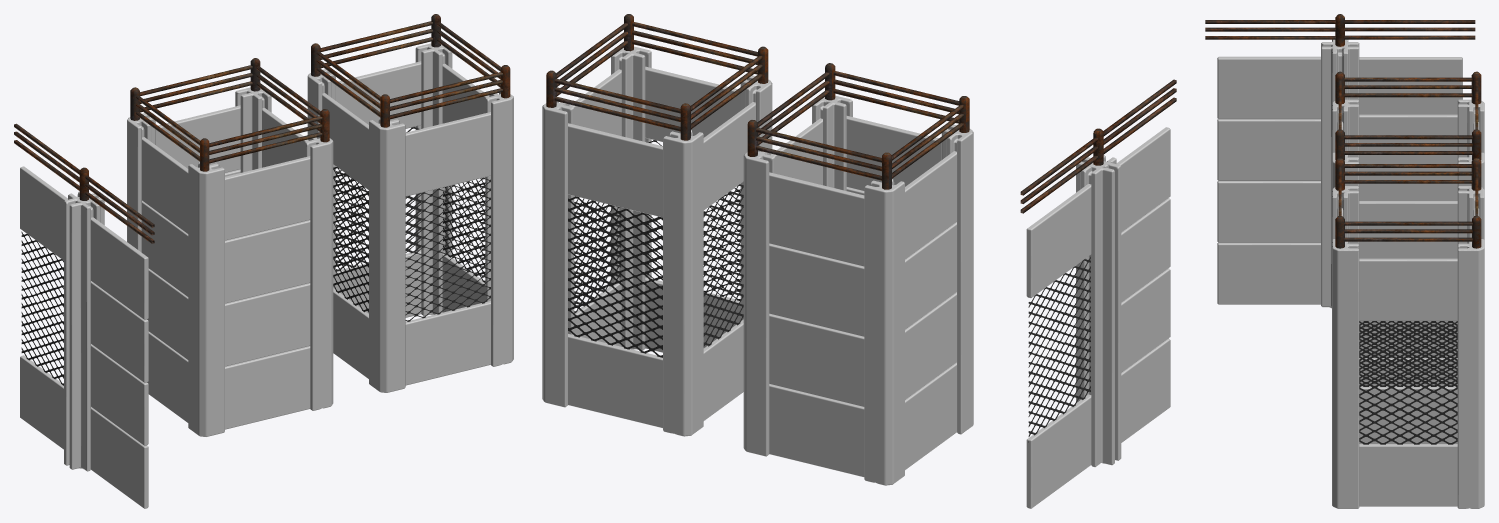
File: zabor2_1x1x2.fbx
The picture shows the model from 3 angles, left to right: view 1: azimuth 30°, elevation 25°; view 2: azimuth 150°, elevation 25°; view 3: azimuth 270°, elevation 25°; orthographic projection. The views are drawn at different scales.
Parts seen in each view (by area): view 1: QuadWall, QuadAmbra, Wall, Ambra, Stolb; view 2: QuadWall, QuadAmbra, Wall, Ambra, Stolb; view 3: QuadAmbra, Wall, QuadWall, Ambra, Stolb.
Boxes of the visible parts, left/top/right/bottom form: QuadWall: left=127, top=58, right=333, bottom=436; QuadAmbra: left=307, top=14, right=513, bottom=392; Wall: left=85, top=175, right=154, bottom=508; Ambra: left=14, top=123, right=79, bottom=449; Stolb: left=64, top=167, right=104, bottom=471; QuadWall: left=743, top=63, right=973, bottom=485; QuadAmbra: left=542, top=14, right=772, bottom=436; Wall: left=1103, top=79, right=1176, bottom=442; Ambra: left=1020, top=137, right=1097, bottom=508; Stolb: left=1076, top=128, right=1121, bottom=467; QuadAmbra: left=1332, top=158, right=1484, bottom=508; Wall: left=1205, top=20, right=1335, bottom=304; QuadWall: left=1332, top=71, right=1484, bottom=386; Ambra: left=1344, top=20, right=1475, bottom=114; Stolb: left=1321, top=14, right=1359, bottom=308.
Bounding box in the file's own units: 370 × 234 × 205.
